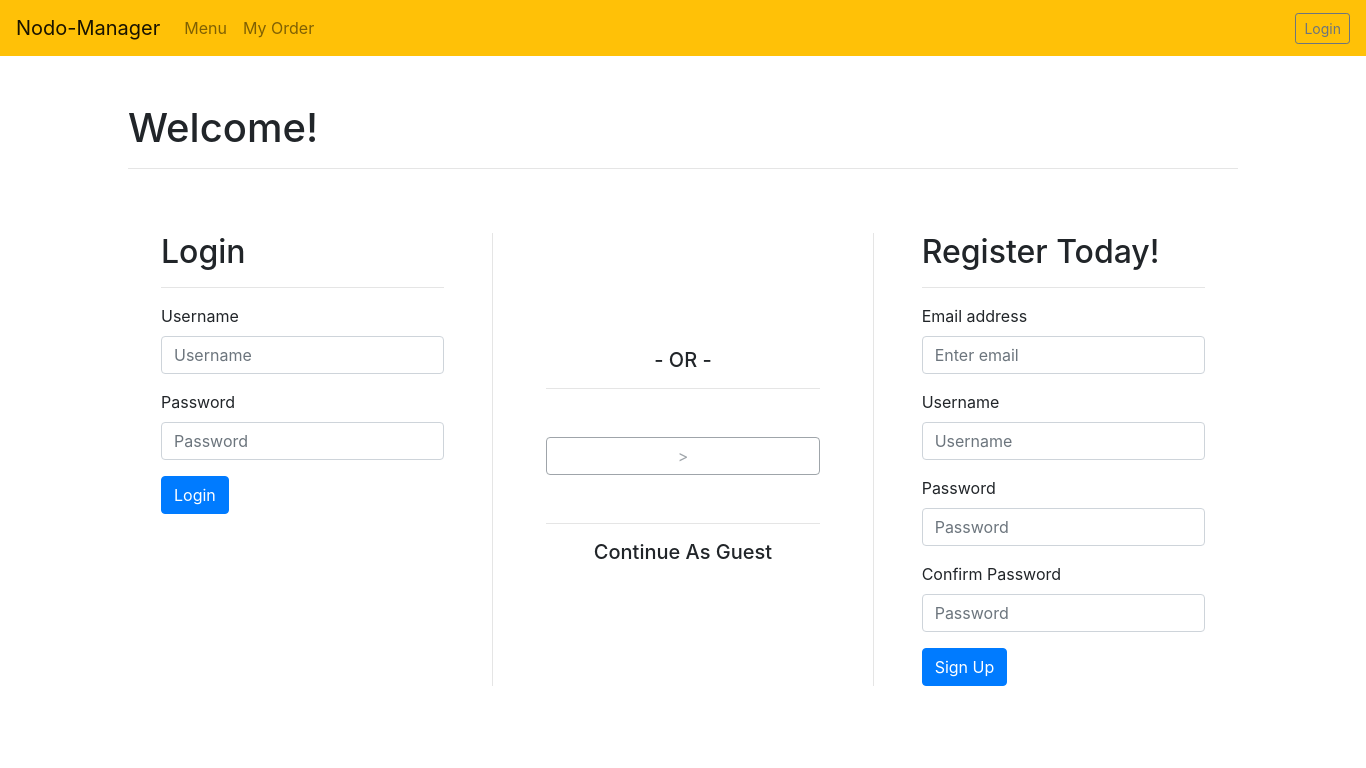
it: Register Form Actions › Passcopy Input › errors on mismatched passwords
The width and height of the screenshot is (1366, 768).
Type "12345" into the password field with id "register-password" at (1064, 527), box [922, 508, 1205, 546]
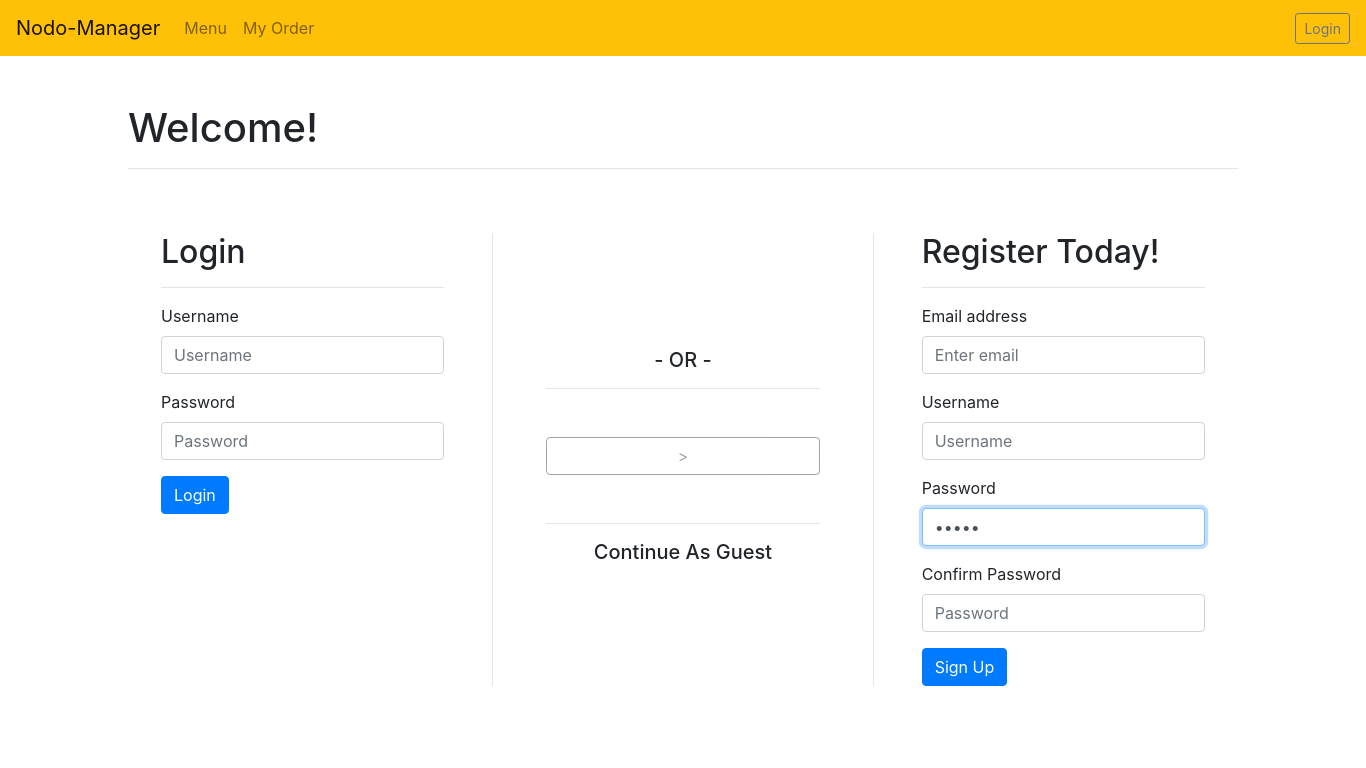
Type "54321" into the password field with id "register-passcopy" at (1064, 613), box [922, 594, 1205, 632]
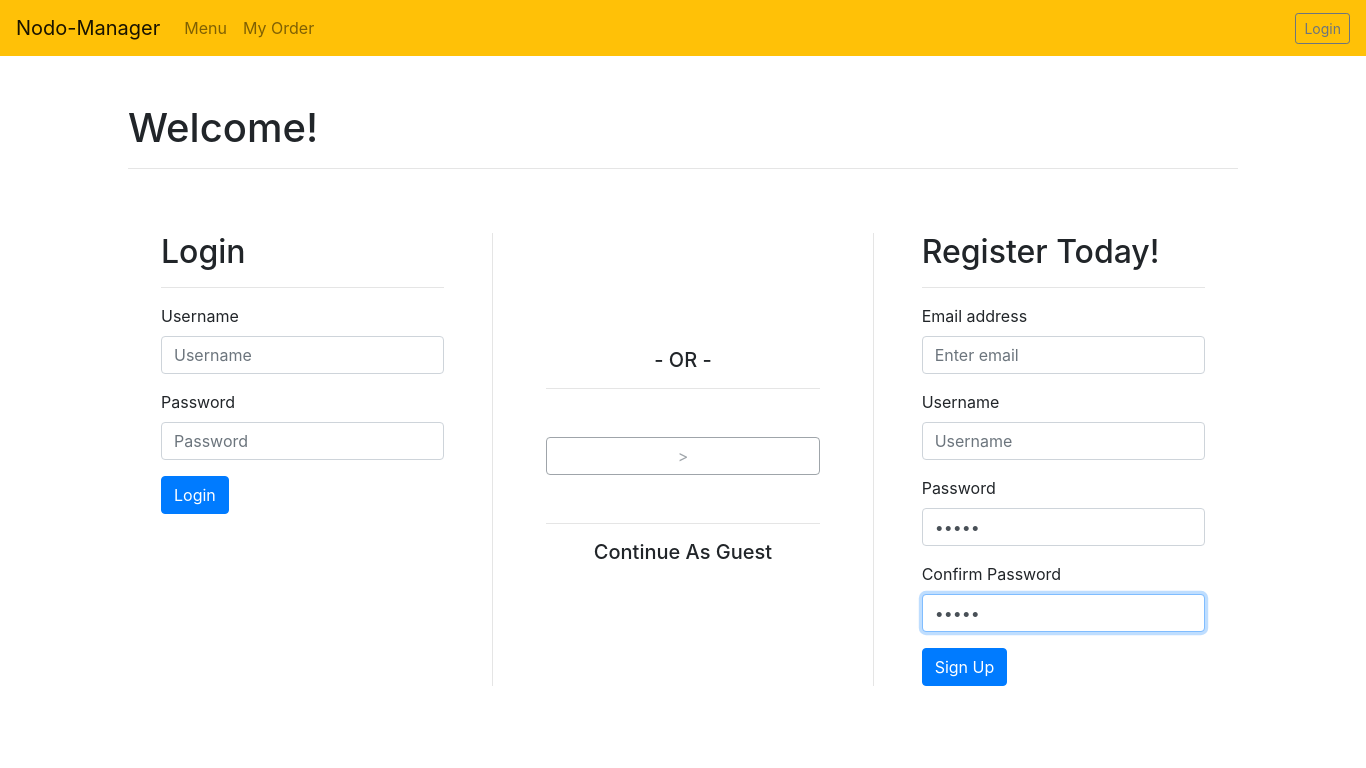
Click the button with id "register-submit-button" at (965, 667), box [922, 648, 1008, 686]
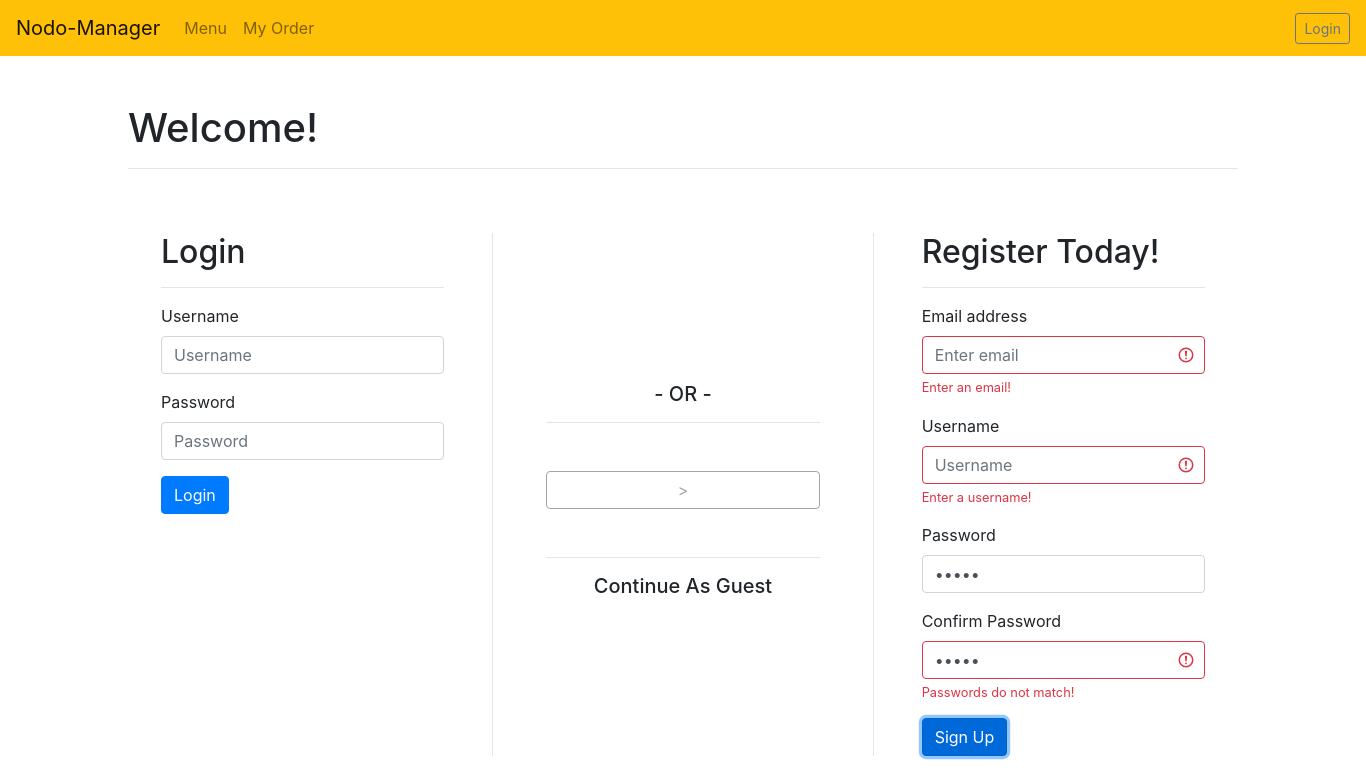
Now the text "Passwords do not match!" is shown, box [922, 685, 1074, 700]
